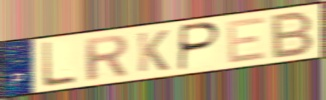B: (270, 9, 316, 61)
E: (226, 15, 268, 65)
K: (135, 28, 170, 74)
L: (41, 40, 77, 89)
P: (177, 20, 223, 73)
R: (82, 33, 130, 83)
